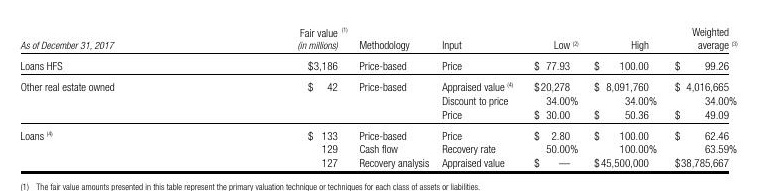table: (0, 0, 758, 191)
